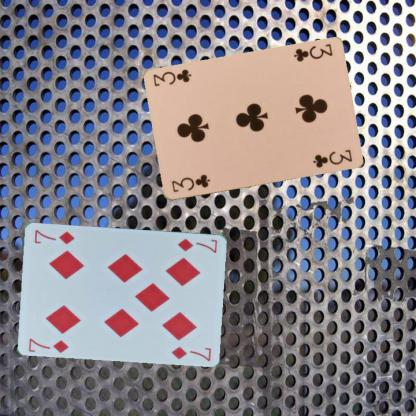3c: (290, 41, 334, 64), (168, 172, 212, 194)
7d: (175, 235, 219, 254), (26, 335, 70, 354)
